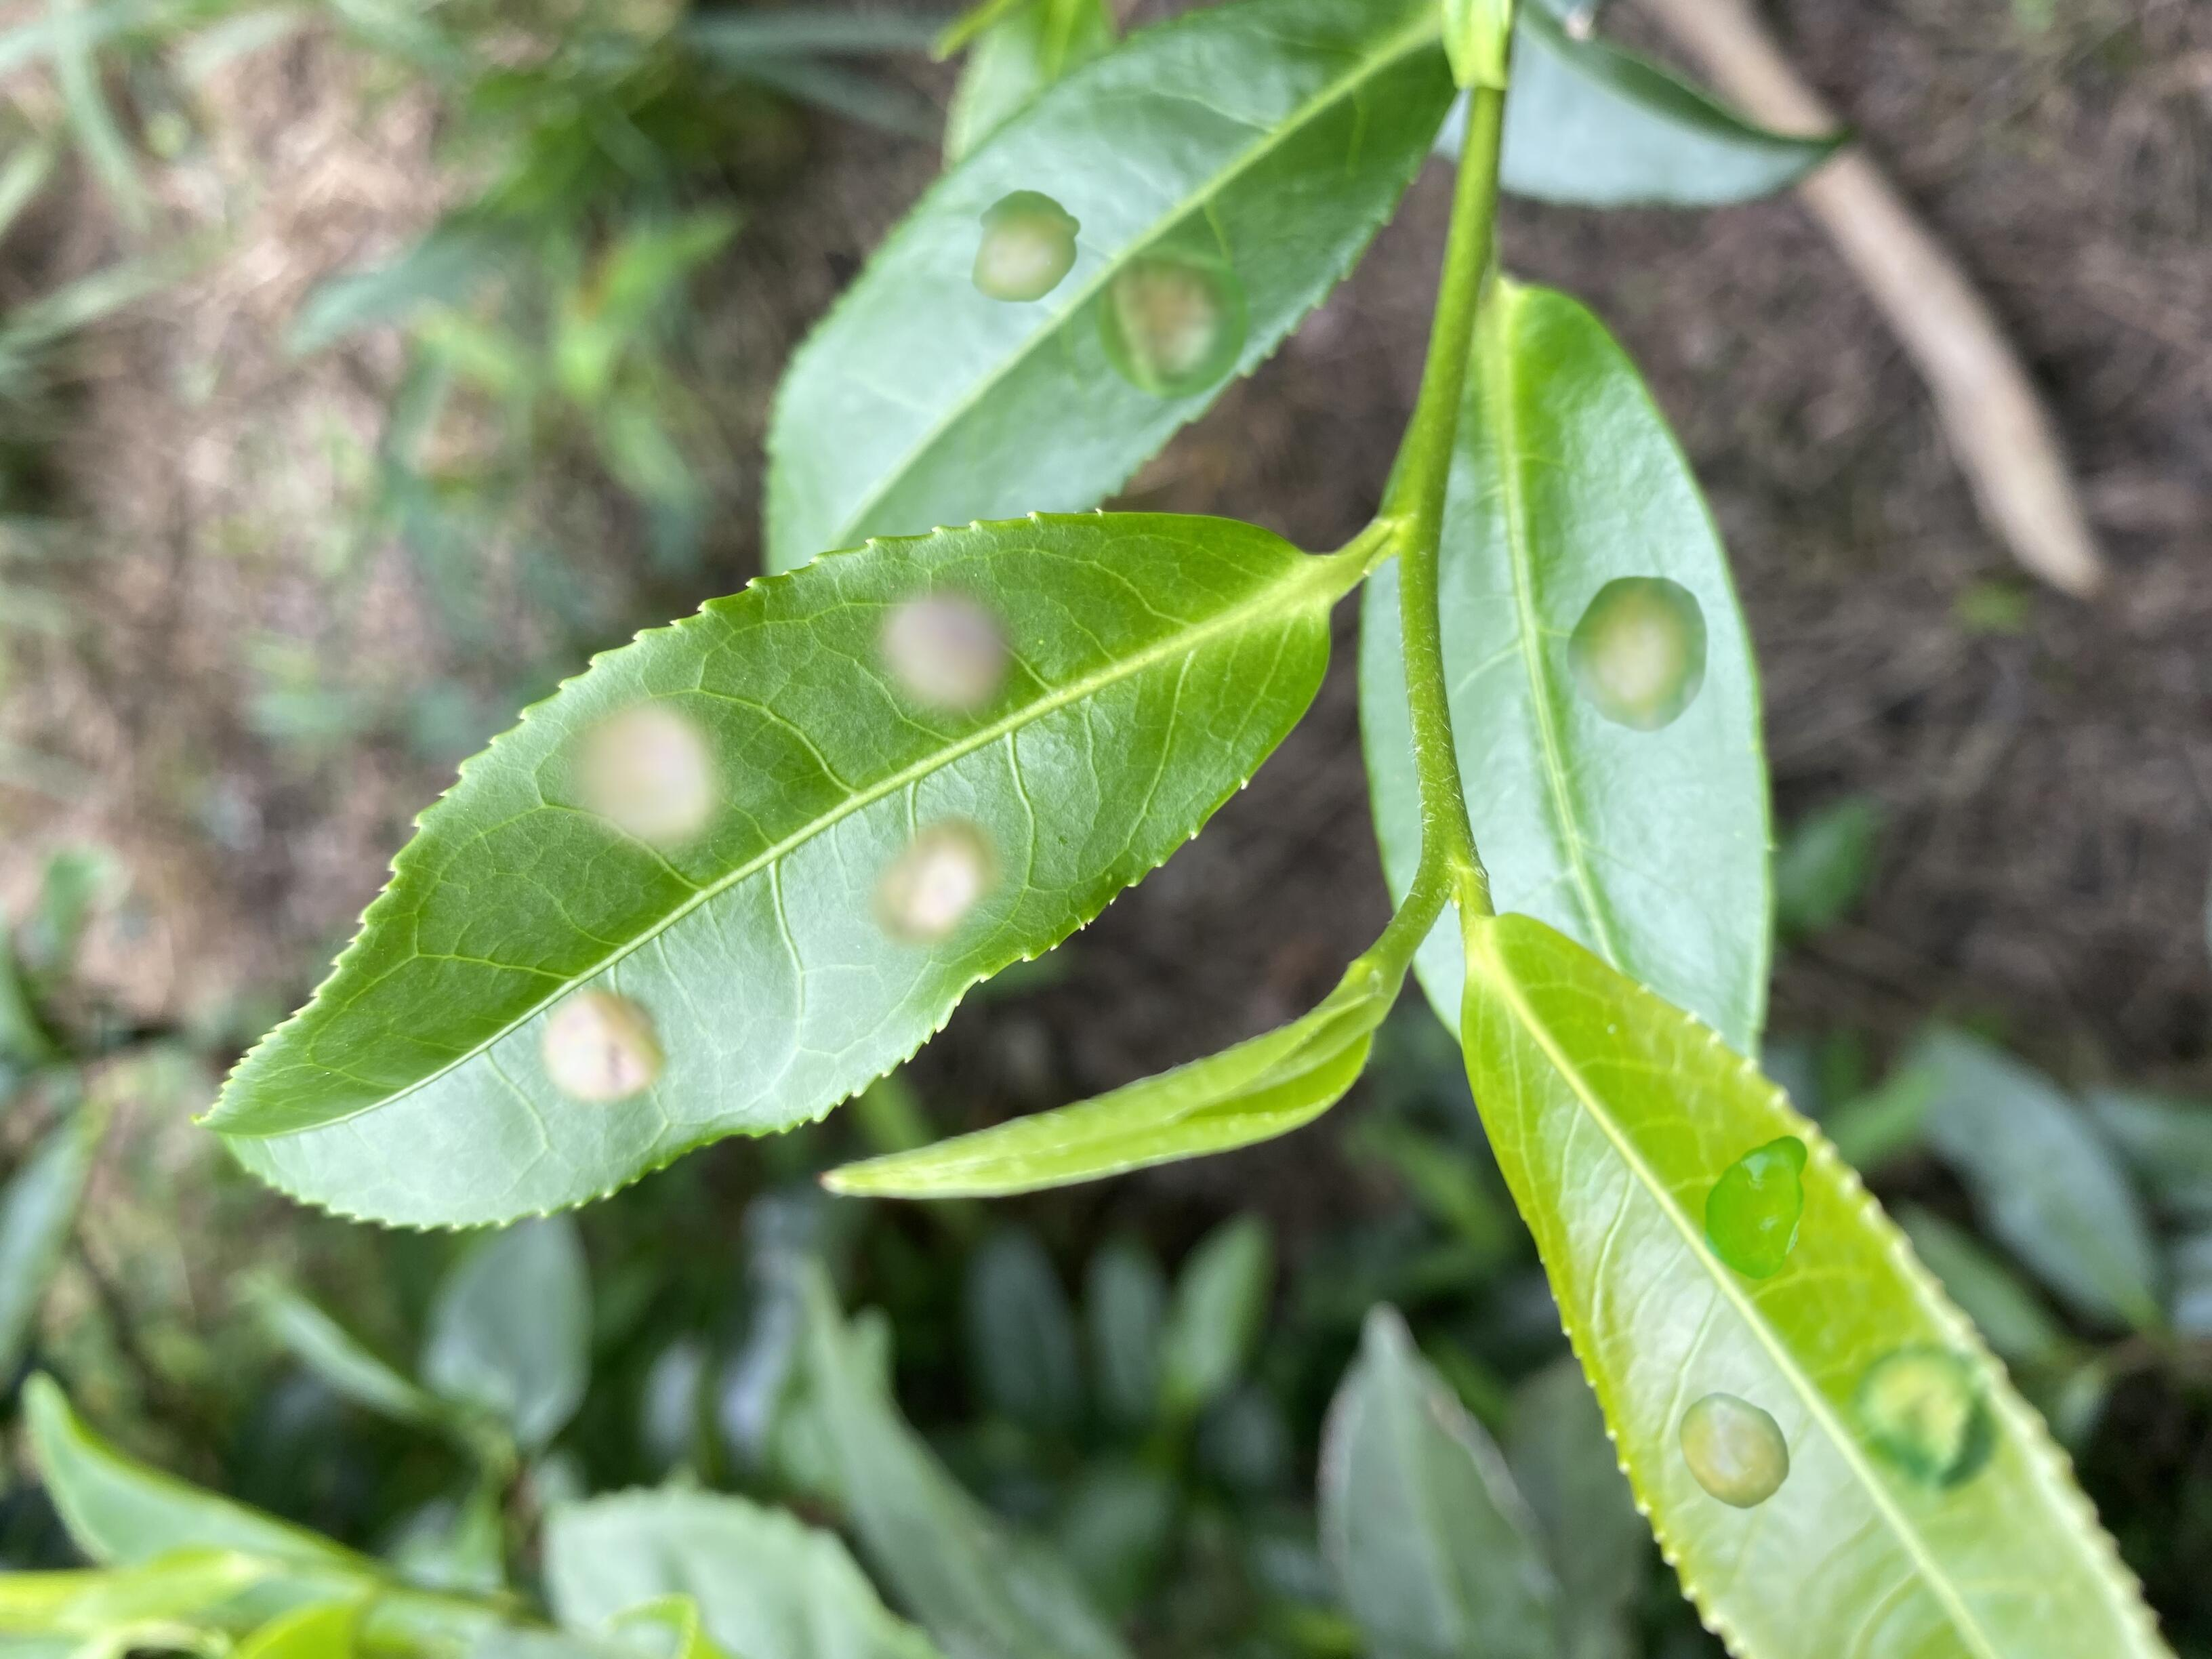chabing_high: (192, 507, 1336, 1237), (1458, 910, 2172, 1656), (751, 3, 1460, 573)
chabing_low: (1357, 281, 1771, 1058)
